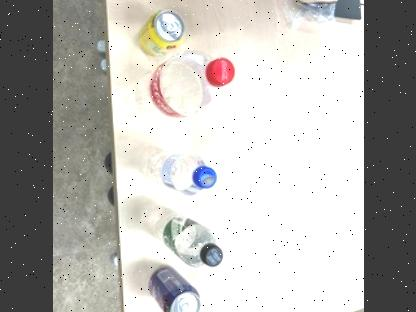Can: (141, 267, 202, 312), (134, 7, 188, 57)
Plastic Bottle: (126, 48, 236, 124), (132, 206, 226, 268), (134, 150, 218, 198)
